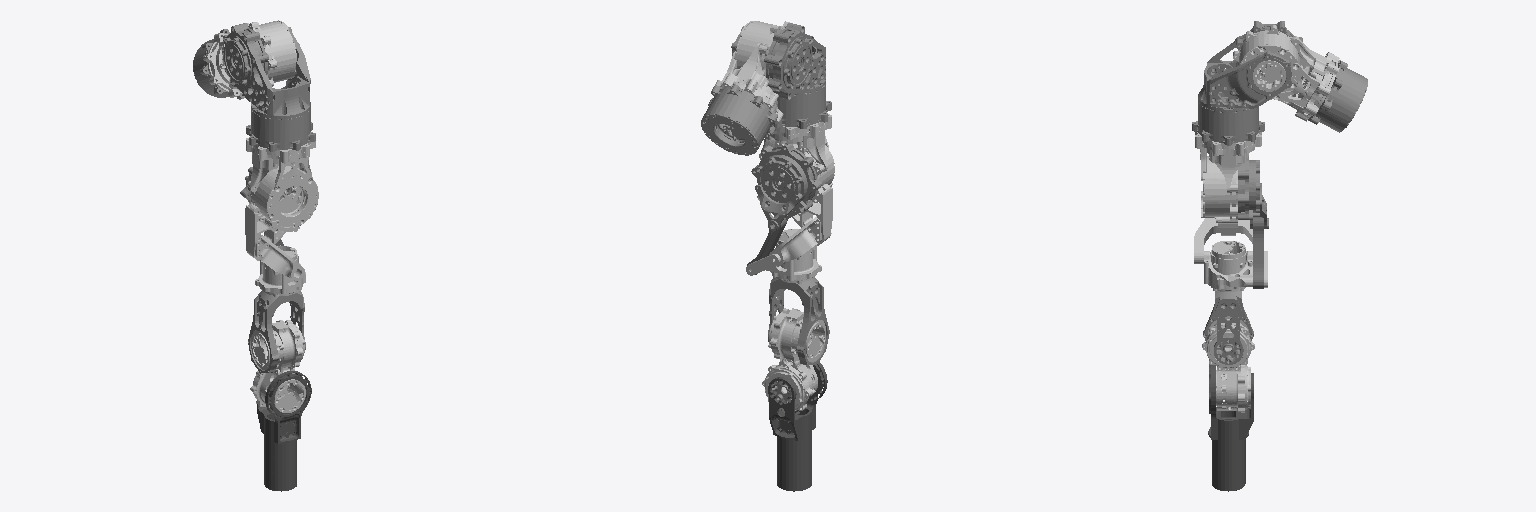
The robot description file, URDF, robot "raipal_stub-0_R":
<?xml version="1.0" encoding="utf-8"?>
<robot name="raipal_stub-0_R">
  <!-- [URDF-WRITER] Created with urdf-writer script (by CHH) on 2026-01-27 21:55:36.760318-->

  <!-- [URDF-WRITER] from module [_fixed-base] -->

  <!-- this link makes the robot fixed-base in RAISIM -->
  <link name="world"></link>

  <link name="base"></link>

  <joint name="base_fix" type="fixed">
    <origin xyz="0 0 0.8" rpy="0 0 0"/>
    <parent link="world" />
    <child link="base" />
    <axis xyz="0 0 0" />
  </joint>


  <!-- [URDF-WRITER] from module [raipal_R] -->

  <link name="R_base">
    <!-- CHH / 2025-09-01-20:14 -->
    <!-- link name: [R_base]-->
    <!-- frame: [R0_base]-->
    <inertial>
      <origin 
        xyz="-0.00013000 -0.06389000 -0.05559000"
        rpy="0 0 0" />
      <mass value="0.79658000" />
      <inertia
          ixx="0.00074742"
          ixy="1.892780e-6"
          ixz="-1.179560e-6"
          iyy="0.00098187"
          iyz="-0.00013334"
          izz="0.00082394" />
    </inertial>
    <visual>
      <origin
        xyz="0 0 0"
        rpy="0 0 0" />
      <geometry>
        <mesh filename="../meshes/R_base.STL" />
      </geometry>
      <material name="">
        <color rgba=".6 .6 .6 1" />
      </material>
    </visual>
    <!--<collision>
      <origin
        xyz="0 0 0"
        rpy="0 0 0" />
      <geometry>
        <mesh filename="../meshes/R_base.STL" />
      </geometry>
    </collision>-->
  </link>

  <joint name="R_fix" type="fixed">
    <origin xyz="0 0 0" rpy="0 0 0"/>
    <parent link="base" />
    <child link="R_base" />
    <axis xyz="0 0 0" />
  </joint>

  <link name="R_collar">
    <!-- CHH / 2025-09-01-20:14 -->
    <!-- link name: [R_collar]-->
    <!-- frame: [R1_flexion]-->
    <inertial>
      <origin 
        xyz="0.00471000 -1.000000e-5 0.10057000"
        rpy="0 0 0" />
      <mass value="1.72283000" />
      <inertia
          ixx="0.00466072"
          ixy="5.127800e-7"
          ixz="-0.00028338"
          iyy="0.00434837"
          iyz="8.010400e-7"
          izz="0.00167296" />
    </inertial>
    <visual>
      <origin
        xyz="0 0 0"
        rpy="0 0 0" />
      <geometry>
        <mesh filename="../meshes/R_collar.STL" />
      </geometry>
      <material name="">
        <color rgba="0.8 0.8 0.8 1" />
      </material>
    </visual>
    <!--<collision>
      <origin
        xyz="0 0 0"
        rpy="0 0 0" />
      <geometry>
        <mesh filename="../meshes/R_collar.STL" />
      </geometry>
    </collision>-->
  </link>

  <joint name="R1_flexion" type="revolute"> <!--[0]-->
    <origin
      xyz="0 -0.037198 -0.0709"
      rpy="1.0472 0 0" />
    <parent link="R_base" />
    <child link="R_collar" />
    <axis
      xyz="0 0 1" />
    <limit
      lower="-1.57"
      upper="3.14"
      effort="181"
      velocity="13.9" />
    <dynamics rotor_inertia = "0.0576402034658611" /> <!-- CHH / 2025-09-01-20:30-->
  </joint>

  <link name="R_shoulder">
    <!-- CHH / 2025-09-01-20:14 -->
    <!-- link name: [R_shoulder]-->
    <!-- frame: [R2_adduction]-->
    <inertial>
      <origin 
        xyz="-0.03309000 0.04277000 0.04408000"
        rpy="0 0 0" />
      <mass value="1.92988000" />
      <inertia
          ixx="0.00554587"
          ixy="0.00224326"
          ixz="-0.00046924"
          iyy="0.00422168"
          iyz="0.00058524"
          izz="0.00699049" />
    </inertial>
    <visual>
      <origin
        xyz="0 0 0"
        rpy="0 0 0" />
      <geometry>
        <mesh filename="../meshes/R_shoulder.STL" />
      </geometry>
      <material name="">
        <color rgba="0.6 0.6 0.6 1" />
      </material>
    </visual>
    <!--<collision>
      <origin
        xyz="0 0 0"
        rpy="0 0 0" />
      <geometry>
        <mesh filename="../meshes/R_shoulder.STL" />
      </geometry>
    </collision>-->
  </link>

  <joint name="R2_adduction" type="revolute"> <!--[1]-->
    <origin
      xyz="0.0373 0 0.1418"
      rpy="-1.5707963267949 1.0472 1.5707963267949" />
    <parent link="R_collar" />
    <child link="R_shoulder" />
    <axis
      xyz="0 0 -1" />
    <limit
      lower="-2.618"
      upper="0.488"
      effort="181"
      velocity="13.9" />
    <dynamics rotor_inertia = "0.0576402034658611" /> <!-- CHH / 2025-09-01-20:30-->
  </joint>

  <link name="R_humerus">
    <!-- CHH / 2025-09-01-20:14 -->
    <!-- link name: [R_humerus]-->
    <!-- frame: [R3_rotation]-->
    <inertial>
      <origin 
        xyz="-0.00369000 0.00351000 0.11625000"
        rpy="0 0 0" />
      <mass value="1.96262000" />
      <inertia
          ixx="0.00777442"
          ixy="-1.197057e-5"
          ixz="0.00065917"
          iyy="0.00822155"
          iyz="-0.00015972"
          izz="0.00201683" />
    </inertial>
    <visual>
      <origin
        xyz="0 0 0"
        rpy="0 0 0" />
      <geometry>
        <mesh filename="../meshes/R_humerus.STL" />
      </geometry>
      <material name="">
        <color rgba="0.8 0.8 0.8 1" />
      </material>
    </visual>
    <!--<collision>
      <origin
        xyz="0 0 0"
        rpy="0 0 0" />
      <geometry>
        <mesh filename="../meshes/R_humerus.STL" />
      </geometry>
    </collision>-->
  </link>

  <joint name="R3_rotation" type="revolute"> <!--[2]-->
    <origin
      xyz="-0.06 0.06025 0.0373"
      rpy="-1.5707963267949 1.5707963267949 0" />
    <parent link="R_shoulder" />
    <child link="R_humerus" />
    <axis
      xyz="0 0 -1" />
    <limit
      lower="-3.14"
      upper="3.14"
      effort="181"
      velocity="13.9" />
    <dynamics rotor_inertia = "0.0576402034658611" /> <!-- CHH / 2025-09-01-20:30-->
  </joint>

  <link name="R_elb_input">
    <!-- CHH / 2025-09-01-20:14 -->
    <!-- link name: [R_elb_input]-->
    <!-- frame: [R4a_elbow_power]-->
    <inertial>
      <origin 
        xyz="-2.000000e-5 0.00335000 0.05897000"
        rpy="0 0 0" />
      <mass value="0.83412000" />
      <inertia
          ixx="0.00071114"
          ixy="7.660000e-7"
          ixz="-9.255500e-7"
          iyy="0.00059983"
          iyz="-5.504818e-5"
          izz="0.00080767" />
    </inertial>
    <visual>
      <origin
        xyz="0 0 0"
        rpy="0 0 0" />
      <geometry>
        <mesh filename="../meshes/R_elb_input.STL" />
      </geometry>
      <material name="">
        <color rgba="0.6 0.6 0.6 1" />
      </material>
    </visual>
    <!--<collision>
      <origin
        xyz="0 0 0"
        rpy="0 0 0" />
      <geometry>
        <mesh filename="../meshes/R_elb_input.STL" />
      </geometry>
    </collision>-->
  </link>

  <joint name="R4a_elbow_power" type="revolute"> <!--[3]-->
    <origin
      xyz="0 0.0373 0.1418"
      rpy="1.5707963267949 0 0" />
    <parent link="R_humerus" />
    <child link="R_elb_input" />
    <axis
      xyz="0 0 1" />
    <limit
      lower="0"
      upper="1.556"
      effort="181"
      velocity="13.9" />
    <dynamics rotor_inertia = "0.0576402034658611" /> <!-- CHH / 2025-09-01-20:30-->
  </joint>

  <link name="R_elb_bar">
    <!-- CHH / 2025-09-01-20:14 -->
    <!-- link name: [R_elb_bar]-->
    <!-- frame: [R4b_elbow_bar_input]-->
    <inertial>
      <origin 
        xyz="0.04274000 0.00159000 -4.000000e-5"
        rpy="0 0 0" />
      <mass value="0.05314000" />
      <inertia
          ixx="2.335610e-6"
          ixy="0.0"
          ixz="0.0"
          iyy="6.149582e-5"
          iyz="-3.110000e-9"
          izz="6.199993e-5" />
    </inertial>
    <visual>
      <origin
        xyz="0 0 0"
        rpy="0 0 0" />
      <geometry>
        <mesh filename="../meshes/R_elb_bar.STL" />
      </geometry>
      <material name="">
        <color rgba="0.5 0.5 0.5 1" />
      </material>
    </visual>
    <!--<collision>
      <origin
        xyz="0 0 0"
        rpy="0 0 0" />
      <geometry>
        <mesh filename="../meshes/R_elb_bar.STL" />
      </geometry>
    </collision>-->
  </link>

  <joint name="R4b_elbow_bar_input" type="revolute"> <!--[4-unpowered]-->
    <origin
      xyz="0.00134978286029327 0.0599848154638326 0.0812119041053838"
      rpy="0 0 1.12941902735751" />
    <parent link="R_elb_input" />
    <child link="R_elb_bar" />
    <axis
      xyz="0 0 -1" />
    <limit
      lower="0"
      upper="1.802"
      effort="0"
      velocity="100" />
  </joint>

  <link name="R_ulna">
    <!-- CHH / 2025-09-01-20:14 -->
    <!-- link name: [R_ulna]-->
    <!-- frame: [R4_elbow]-->
    <inertial>
      <origin 
        xyz="0.00533000 0.01576000 -0.03891000"
        rpy="0 0 0" />
      <mass value="0.36947000" />
      <inertia
          ixx="0.00032310"
          ixy="-1.385696e-5"
          ixz="-4.244104e-5"
          iyy="0.00036383"
          iyz="-5.919040e-6"
          izz="0.00020708" />
    </inertial>
    <visual>
      <origin
        xyz="0 0 0"
        rpy="0 0 0" />
      <geometry>
        <mesh filename="../meshes/R_ulna.STL" />
      </geometry>
      <material name="">
        <color rgba="0.8 0.8 0.8 1" />
      </material>
    </visual>
    <!--<collision>
      <origin
        xyz="0 0 0"
        rpy="0 0 0" />
      <geometry>
        <mesh filename="../meshes/R_ulna.STL" />
      </geometry>
    </collision>-->
  </link>

  <joint name="R4_elbow" type="revolute"> <!--[5-unpowered]-->
    <origin
      xyz="0 -0.0439119041053754 0.25475"
      rpy="1.5707963267949 0 0" />
    <parent link="R_humerus" />
    <child link="R_ulna" />
    <axis
      xyz="0 0 -1" />
    <limit
      lower="0"
      upper="2.2689"
      effort="0"
      velocity="100" />
  </joint>

  <link name="R_radius">
    <!-- CHH / 2025-09-01-20:14 -->
    <inertial>
      <origin 
        xyz="0.00151000 0.0 0.10290000"
        rpy="0 0 0" />
      <mass value="0.42307000" />
      <inertia
          ixx="0.00112662"
          ixy="-1.975000e-8"
          ixz="-5.589578e-5"
          iyy="0.00120471"
          iyz="1.556000e-8"
          izz="0.00024138" />
    </inertial>
    <visual>
      <origin
        xyz="0 0 0"
        rpy="0 0 0" />
      <geometry>
        <mesh filename="../meshes/R_radius.STL" />
      </geometry>
      <material name="">
        <color rgba="0.6 0.6 0.6 1" />
      </material>
    </visual>
    <!--</collision>
      <origin
        xyz="0 0 0"
        rpy="0 0 0" />
      <geometry>
        <mesh filename="../meshes/R_radius.STL" />
      </geometry>
    </collision>-->
  </link>

  <joint name="R5_roll" type="revolute">  <!--[6]-->
    <origin
      xyz="0 -0.0135819531869474 -0.0439119041053754"
      rpy="-1.5707963267949 0 0" />
    <parent link="R_ulna" />
    <child link="R_radius" />
    <axis
      xyz="0 0 -1" />
    <limit
      lower="-1.57"
      upper="1.57"
      effort="12.61"
      velocity="53.8" />
    <dynamics rotor_inertia = "0.000540543349430043" /> <!-- CHH / 2025-09-01-20:30-->
  </joint>

  <link name="R_carpal">
    <!-- CHH / 2025-09-01-20:14 -->
    <inertial>
      <origin 
        xyz="-0.00117000 0.03421000 0.02964000"
        rpy="0 0 0" />
      <mass value="0.67981000" />
      <inertia
          ixx="0.00128813"
          ixy="3.134577e-5"
          ixz="3.268690e-6"
          iyy="0.00040998"
          iyz="-9.323146e-5"
          izz="0.00126953" />
    </inertial>
    <visual>
      <origin
        xyz="0 0 0"
        rpy="0 0 0" />
      <geometry>
        <mesh filename="../meshes/R_carpal.STL" />
      </geometry>
      <material name="">
        <color rgba="0.8 0.8 0.8 1" />
      </material>
    </visual>
    <!--</collision>
      <origin
        xyz="0 0 0"
        rpy="0 0 0" />
      <geometry>
        <mesh filename="../meshes/R_carpal.STL" />
      </geometry>
    </collision>-->
  </link>

  <joint name="R6_pitch" type="revolute">  <!--[7]-->
    <origin
      xyz="-0.0337 0 0.153581953186935"
      rpy="1.5707963267949 0 1.5707963267949" />
    <parent link="R_radius" />
    <child link="R_carpal" />
    <axis
      xyz="0 0 1" />
    <limit
      lower="-2.0944"
      upper="2.0944"
      effort="12.61"
      velocity="53.8" />
    <dynamics rotor_inertia = "0.000540543349430043" /> <!-- CHH / 2025-09-01-20:30-->
  </joint>

  <link name="R_ee">
    <!-- CHH / 2025-09-01-20:14 -->
    <inertial>
      <origin 
        xyz="0.0 0.0 0.04531000"
        rpy="0 0 0" />
      <mass value="0.13143000" />
      <inertia
          ixx="3.339173e-5"
          ixy="0.0"
          ixz="0.0"
          iyy="3.339173e-5"
          iyz="0.0"
          izz="4.133016e-5" />
    </inertial>
    <visual>
      <origin
        xyz="0 0 0"
        rpy="0 0 0" />
      <geometry>
        <mesh filename="../meshes/R_ee.STL" />
      </geometry>
      <material name="">
        <color rgba="0.6 0.6 0.6 1" />
      </material>
    </visual>
    <!--</collision>
      <origin
        xyz="0 0 0"
        rpy="0 0 0" />
      <geometry>
        <mesh filename="../meshes/R_ee.STL" />
      </geometry>
    </collision>-->
  </link>

  <joint name="R7_yaw" type="revolute">  <!--[8]-->
    <origin
      xyz="0.0264 0.073 0.0337"
      rpy="0 -1.5707963267949 0" />
    <parent link="R_carpal" />
    <child link="R_ee" />
    <axis
      xyz="0 0 -1" />
    <limit
      lower="-1.57079"
      upper="1.57079"
      effort="12.61"
      velocity="53.8" />
    <dynamics rotor_inertia = "0.000540543349430043" /> <!-- CHH / 2025-09-01-20:30-->
  </joint>

  <!-- Imaginary links for loop closure -->
  <link name="R_loop_barside"></link>

  <joint name="R4cA_elbow_loop_bar" type="fixed">
    <origin
      xyz="0.0854747786370337 0 0"
      rpy="0 0 0" />
    <parent link="R_elb_bar" />
    <child link="R_loop_barside" />
    <axis
      xyz="0 0 1" />
    <!-- relaxed limits since others are constrained -->
    <limit
      lower="-3.14"
      upper="3.14"
      effort="0"
      velocity="100" />
  </joint>

  <link name="R_loop_ulnaside"></link>

  <joint name="R4cB_elbow_loop_ulna_fixed" type="fixed">
    <origin
      xyz="0.0378633410992504 0.0243180468130526 0"
      rpy="0 0 1.12941902735751" />
    <parent link="R_ulna" />
    <child link="R_loop_ulnaside" />
    <axis
      xyz="0 0 0" />
  </joint>

  
  <!-- [URDF-WRITER] from module [stub-0_R] -->
  <link name="R_stub">
    <!-- CHH / 2025-10-17-21:24 -->
    <!-- link name: [stub-0]-->
    <!-- frame: [RE_end-effector]-->
    <inertial>
      <origin 
        xyz="0.0 -0.06296000 0.02373000"
        rpy="0 0 0" />
      <mass value="0.36027000" />
      <inertia
          ixx="0.00101582"
          ixy="0.0"
          ixz="0.0"
          iyy="0.00024407"
          iyz="7.755489e-5"
          izz="0.00097350" />
    </inertial>
    <visual>
      <origin
        xyz="0 0 0"
        rpy="0 0 0" />
      <geometry>
        <mesh filename="../meshes/stub_0.STL" />
      </geometry>
      <material name="">
        <color rgba="0.4 0.4 0.4 1" />
      </material>
    </visual>
  </link>

  <joint name="RE_end_effector_fixed" type="fixed">
    <origin
      xyz="0 0 0"
      rpy="0 0 3.141592" />
    <parent link="R_ee" />
    <child link="R_stub" />
    <axis
      xyz="0 0 3.141592" />
  </joint>


  <link name="R_stub-tip"></link>

  <joint name="RE_tip_fixed" type="fixed">
    <origin
      xyz="0 -0.157 0.0264"
      rpy="-1.5708 0 3.141592" />
    <parent link="R_stub" />
    <child link="R_stub-tip" />
    <axis
      xyz="0 0 0" />
  </joint>
  <!-- [URDF-WRITER] merged constraints -->
  <constraints nominal_config="0 0 0 0 0 0 0 0 0 0 0 0 0 0 0 0 0 0 0 0 0">
    <pin body1="R_loop_barside" body2="R_loop_ulnaside" anchor="0.0 0.0 0.0"/>
  </constraints>

</robot>

--- Facts derived from the render (not from the file) ---
Views: 3 orthographic renders of the robot side by side, from view 1: azimuth 30°, elevation 25°; view 2: azimuth 150°, elevation 25°; view 3: azimuth 270°, elevation 25°.
Model raipal_stub-0_R with 16 links and 15 joints (9 revolute, 6 fixed), rooted at world, posed all joints at 0.
Visible links, largest first — view 1: R_shoulder, R_humerus, R_stub, R_carpal, R_collar, R_radius, R_ulna, R_base; view 2: R_shoulder, R_humerus, R_stub, R_elb_input, R_base, R_carpal, R_collar, R_radius, R_ulna; view 3: R_shoulder, R_collar, R_humerus, R_stub, R_carpal, R_ulna, R_base, R_radius, R_elb_input, R_elb_bar.
Link boxes in pixels (<box>): R_shoulder: <box>222,23,315,151</box>; R_humerus: <box>245,138,318,280</box>; R_stub: <box>257,371,311,491</box>; R_carpal: <box>250,320,305,412</box>; R_collar: <box>203,20,296,97</box>; R_radius: <box>248,291,305,373</box>; R_ulna: <box>255,245,305,296</box>; R_base: <box>193,29,244,99</box>; R_shoulder: <box>731,23,831,128</box>; R_humerus: <box>759,114,834,266</box>; R_stub: <box>768,361,827,491</box>; R_elb_input: <box>751,143,821,231</box>; R_base: <box>701,84,777,155</box>; R_carpal: <box>762,308,825,412</box>; R_collar: <box>715,21,792,123</box>; R_radius: <box>768,277,829,365</box>; R_ulna: <box>746,229,821,283</box>; R_shoulder: <box>1192,21,1302,145</box>; R_collar: <box>1233,25,1339,121</box>; R_humerus: <box>1194,132,1261,263</box>; R_stub: <box>1208,364,1253,491</box>; R_carpal: <box>1202,316,1254,412</box>; R_ulna: <box>1204,241,1267,291</box>; R_base: <box>1308,60,1367,132</box>; R_radius: <box>1203,291,1253,364</box>; R_elb_input: <box>1238,154,1268,228</box>; R_elb_bar: <box>1253,217,1263,288</box>.
Bounding box of the posed robot: 0.108 × 0.2589 × 0.7385 m (x, y, z).
11 mesh visuals loaded from 11 distinct referenced files (11 binary STL).
